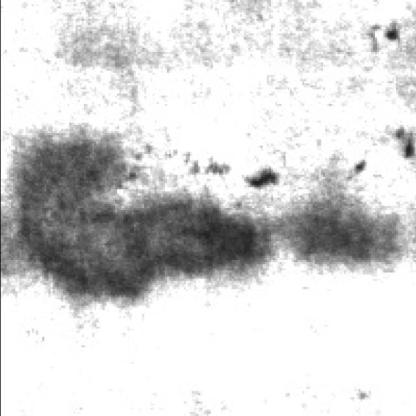patches: (16, 133, 274, 297), (293, 185, 404, 266)
